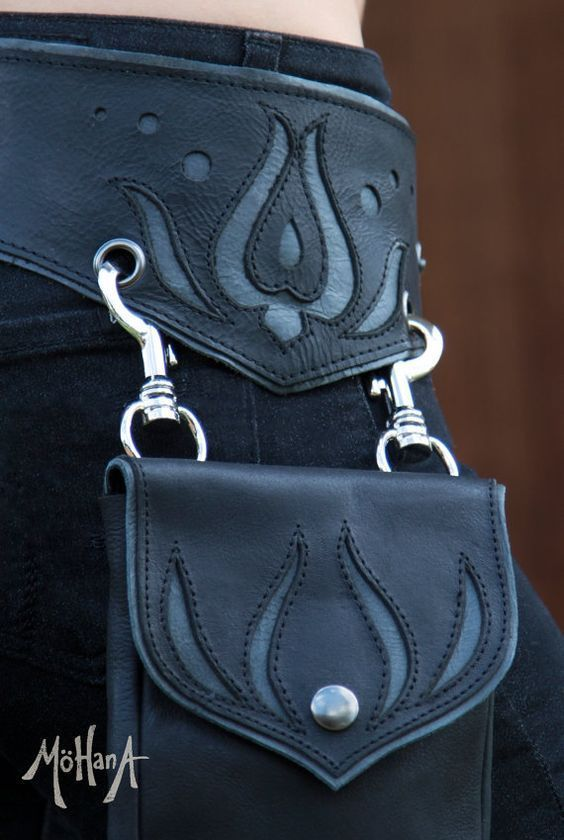cuero: (1, 44, 519, 840)
